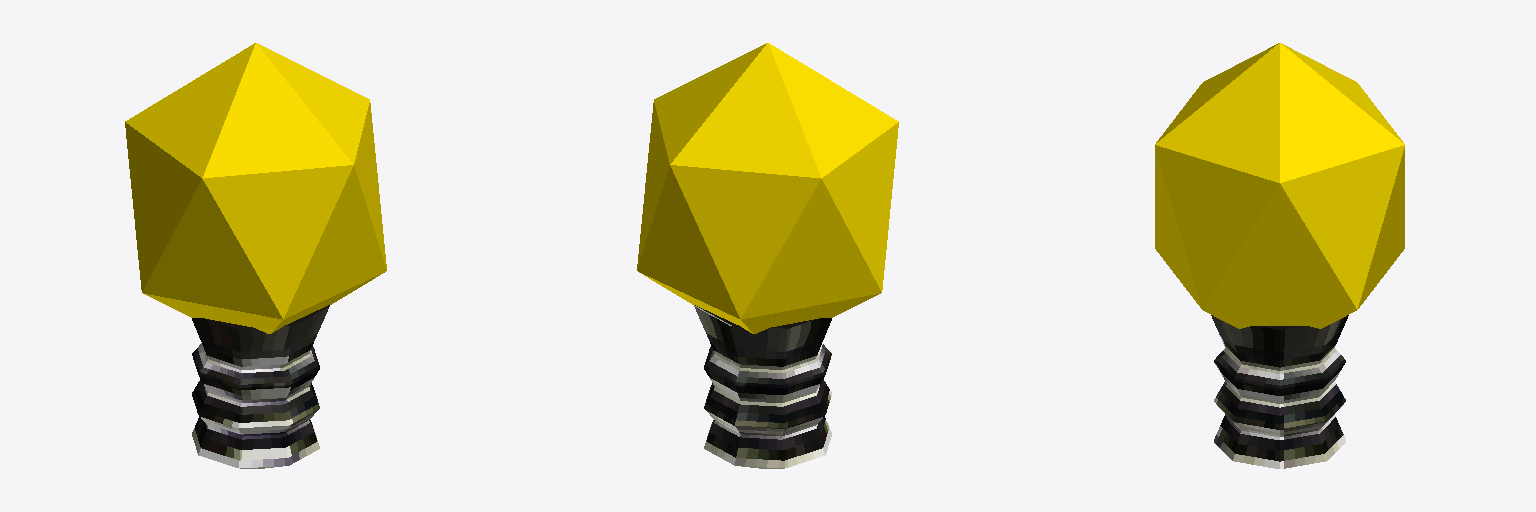
3 views of the same model, side by side, from view 1: azimuth 30°, elevation 25°; view 2: azimuth 150°, elevation 25°; view 3: azimuth 270°, elevation 25° (orthographic).
Parts seen in each view (by area): view 1: Icosphere, Cylinder; view 2: Icosphere, Cylinder; view 3: Icosphere, Cylinder.
Boxes of the visible parts, box(x1,y1,x2,y2) form: Icosphere: box(125, 43, 386, 333); Cylinder: box(192, 305, 329, 468); Icosphere: box(637, 43, 898, 333); Cylinder: box(694, 305, 831, 468); Icosphere: box(1155, 43, 1404, 328); Cylinder: box(1211, 315, 1348, 468).
Bounding box in the file's own units: 0.496 × 0.8858 × 0.4717.
1 materials, 1 textured.